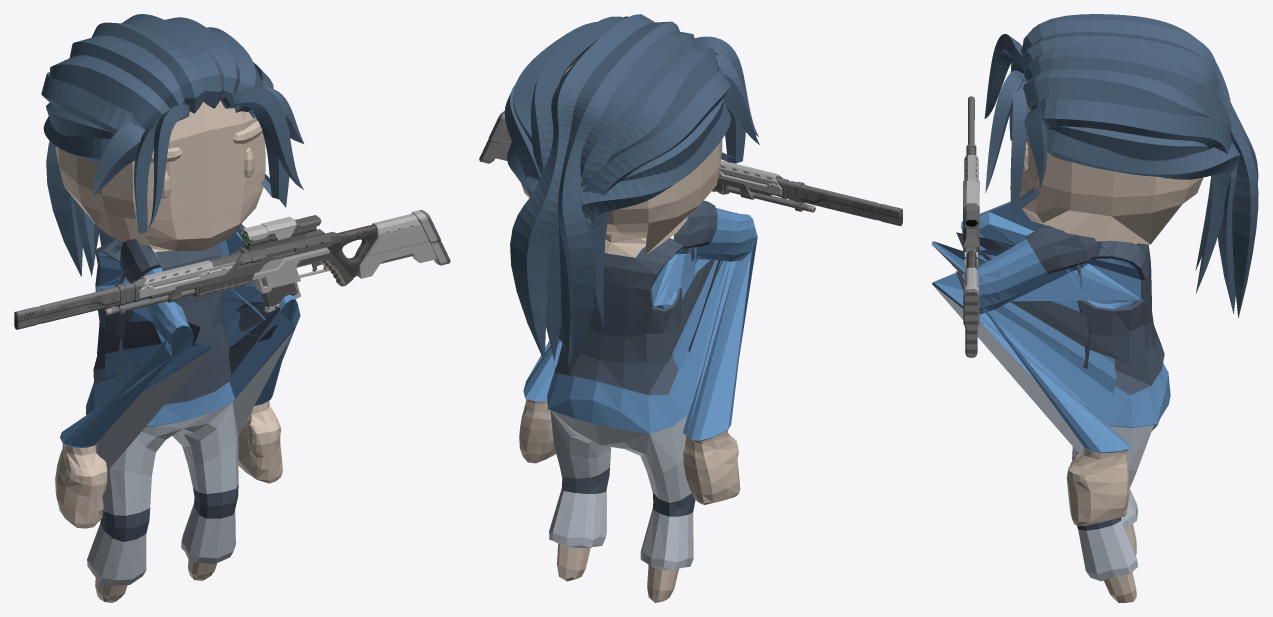
File: hero_an.glb
The picture shows the model from 3 angles, left to right: view 1: azimuth 30°, elevation 25°; view 2: azimuth 150°, elevation 25°; view 3: azimuth 270°, elevation 25°; orthographic projection. The views are drawn at different scales.
Visible parts, largest first — view 1: an_0, an_5, an_2, gun_geometry_0, an_4, an_3, an_1; view 2: an_0, an_4, an_3, an_5, an_2, gun_geometry_0; view 3: an_0, an_4, an_5, an_3, an_2, gun_geometry_0.
Boxes of the visible parts, x1=… form: an_0: x1=41, y1=14, x2=304, y2=276; an_5: x1=55, y1=100, x2=282, y2=602; an_2: x1=87, y1=330, x2=293, y2=585; gun_geometry_0: x1=14, y1=210, x2=450, y2=329; an_4: x1=60, y1=230, x2=300, y2=447; an_3: x1=93, y1=224, x2=280, y2=541; an_1: x1=150, y1=121, x2=262, y2=198; an_0: x1=504, y1=14, x2=759, y2=368; an_4: x1=523, y1=208, x2=757, y2=441; an_3: x1=555, y1=200, x2=726, y2=516; an_5: x1=519, y1=60, x2=740, y2=602; an_2: x1=549, y1=410, x2=693, y2=570; gun_geometry_0: x1=479, y1=111, x2=902, y2=226; an_0: x1=984, y1=14, x2=1258, y2=318; an_4: x1=931, y1=201, x2=1170, y2=452; an_5: x1=1020, y1=103, x2=1203, y2=602; an_3: x1=956, y1=225, x2=1164, y2=530; an_2: x1=932, y1=245, x2=1159, y2=581; gun_geometry_0: x1=963, y1=96, x2=979, y2=357.
Size of the model in its own units: 0.98 by 1.22 by 0.6537.
Materials: 1 (1 with a texture image).
